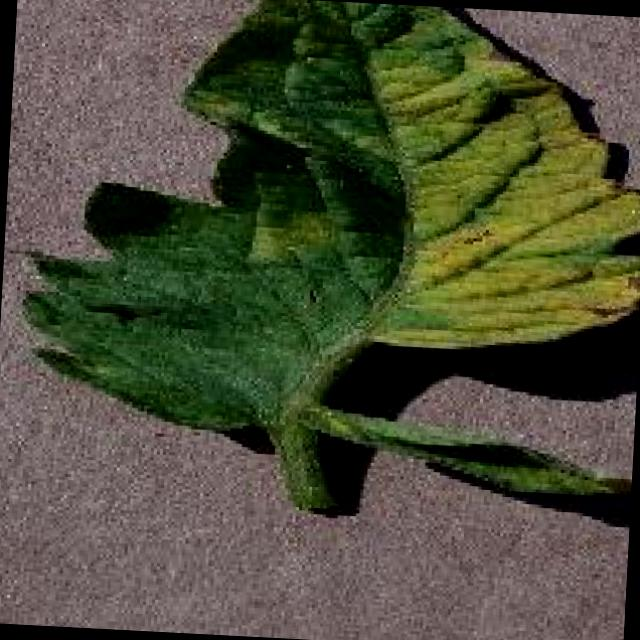leaf mold: (15, 0, 640, 508)
